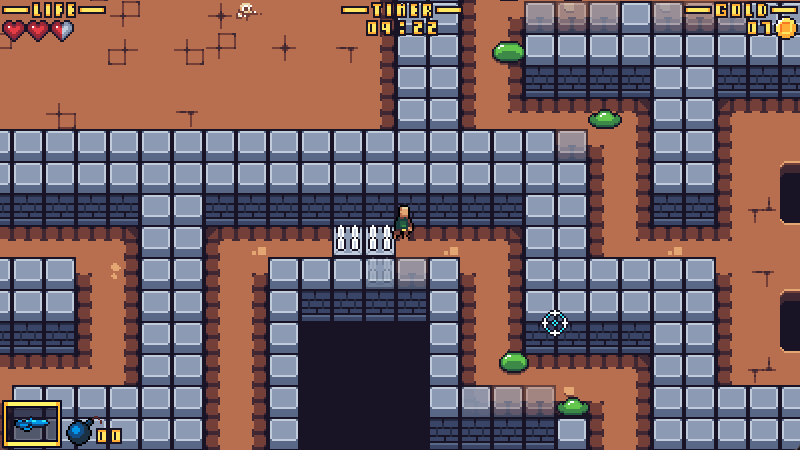aim: (542, 310, 570, 337)
enemy_slug: (492, 40, 526, 64), (587, 108, 624, 129), (498, 350, 529, 372), (558, 395, 589, 416)
health-1: (1, 20, 75, 42)
player: (393, 205, 414, 241)
trap_on: (332, 224, 395, 285)
